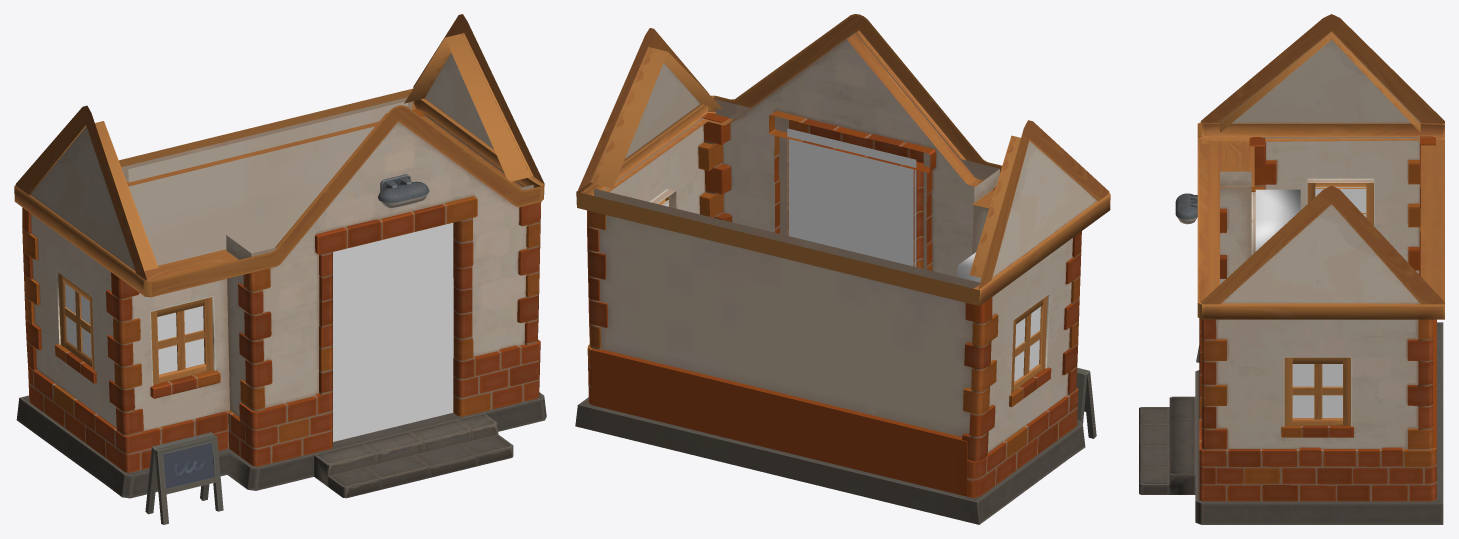
Rendered from wall_na_brick_a.glb.
The picture shows the model from 3 angles, left to right: view 1: azimuth 30°, elevation 25°; view 2: azimuth 150°, elevation 25°; view 3: azimuth 270°, elevation 25°; orthographic projection. The views are drawn at different scales.
Parts seen in each view (by area): view 1: BlockWall12__mWallA, Door_Dark__mSoftMesh, Signboard1__mSignboard, WindowGlass1__mWindowGlass, Lamp1__mLamp, WindowGlass2__mSideWindow; view 2: BlockWall12__mWallA, Door_Dark__mSoftMesh, WindowGlass2__mSideWindow, Signboard1__mSignboard; view 3: BlockWall12__mWallA, WindowGlass2__mSideWindow, HouseInner__mHouseInner, Lamp1__mLamp.
Boxes of the visible parts, left/top/right/bottom form: BlockWall12__mWallA: left=14, top=14, right=546, bottom=498; Door_Dark__mSoftMesh: left=333, top=223, right=453, bottom=441; Signboard1__mSignboard: left=145, top=432, right=223, bottom=524; WindowGlass1__mWindowGlass: left=157, top=306, right=204, bottom=374; Lamp1__mLamp: left=378, top=174, right=429, bottom=208; WindowGlass2__mSideWindow: left=65, top=283, right=91, bottom=358; BlockWall12__mWallA: left=575, top=14, right=1110, bottom=524; Door_Dark__mSoftMesh: left=787, top=128, right=916, bottom=266; WindowGlass2__mSideWindow: left=662, top=200, right=1040, bottom=381; Signboard1__mSignboard: left=1076, top=367, right=1096, bottom=438; BlockWall12__mWallA: left=1139, top=14, right=1444, bottom=524; WindowGlass2__mSideWindow: left=1292, top=187, right=1366, bottom=417; HouseInner__mHouseInner: left=1255, top=189, right=1300, bottom=251; Lamp1__mLamp: left=1175, top=193, right=1197, bottom=224.
Bounding box in the file's own units: 38.65 × 33.77 × 27.15.
8 materials, 3 textured.
